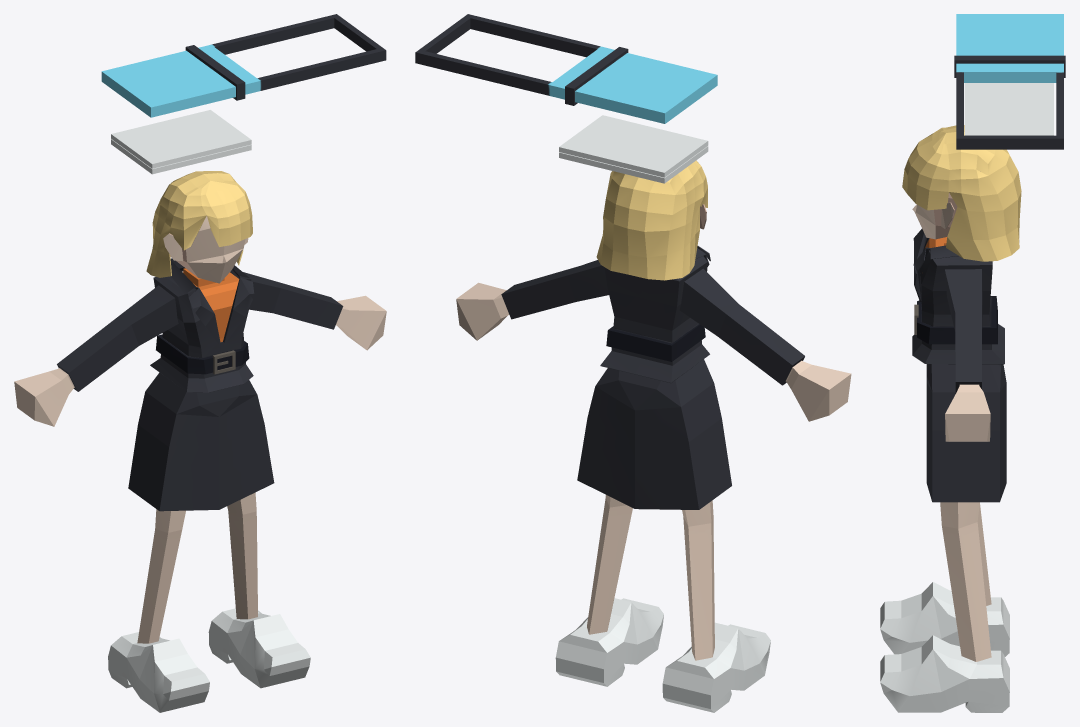
File: Ashley1.glb
3 views of the same model, side by side, from view 1: azimuth 30°, elevation 25°; view 2: azimuth 150°, elevation 25°; view 3: azimuth 270°, elevation 25° (orthographic). The views are drawn at different scales.
Parts seen in each view (by area): view 1: cover, Ash Pants Right.001, Suit, Ash Hair_002, Right_Crocs, Left_Crocs, laptop screen, Ash Pants Left.001, right slevee_001, Lower_Right_Leg, Lower_Left_Leg, Head (+10 smaller); view 2: cover, Ash Hair_002, Ash Pants Right.001, Suit, Right_Crocs, Left_Crocs, laptop screen, Ash Pants Left.001, Lower_Right_Leg, Lower_Left_Leg, right slevee_001, Right_Hand (+7 smaller); view 3: Ash Hair_002, cover, Left_Crocs, Ash Pants Left.001, Suit, Right_Crocs, laptop screen, Lower_Left_Leg, Left_Hand, Left slevee.001, Left slevee, Ash Pants Left (+3 smaller).
Boxes of the visible parts, x1,y1,x2,y2 form: cover: (101,14,386,117); Ash Pants Right.001: (128,391,219,511); Suit: (150,258,254,392); Ash Hair_002: (146,171,252,277); Right_Crocs: (108,632,209,712); Left_Crocs: (208,608,310,688); laptop screen: (111,110,251,168); Ash Pants Left.001: (219,395,274,509); right slevee_001: (57,316,138,391); Lower_Right_Leg: (137,529,181,643); Lower_Left_Leg: (228,511,257,619); Head: (163,216,248,283); cover: (415,14,717,123); Ash Hair_002: (596,160,707,280); Ash Pants Right.001: (635,383,731,509); Suit: (600,246,710,383); Right_Crocs: (662,622,770,712); Left_Crocs: (555,598,663,686); laptop screen: (559,115,708,177); Ash Pants Left.001: (577,386,634,508); Lower_Right_Leg: (683,516,714,660); Lower_Left_Leg: (587,498,632,634); right slevee_001: (718,304,804,385); Right_Hand: (786,361,851,421); Ash Hair_002: (902,125,1021,261); cover: (954,14,1065,149); Left_Crocs: (880,635,1009,712); Ash Pants Left.001: (926,383,1006,502); Suit: (912,229,1004,364); Right_Crocs: (880,582,1009,656); laptop screen: (964,83,1053,135); Lower_Left_Leg: (942,522,991,661); Left_Hand: (945,385,990,441); Left slevee.001: (955,312,981,393); Left slevee: (945,269,982,331); Ash Pants Left: (926,364,1006,392).
Bounding box in the file's own units: 1.29 × 2.03 × 0.5379.
11 materials, 11 textured.
